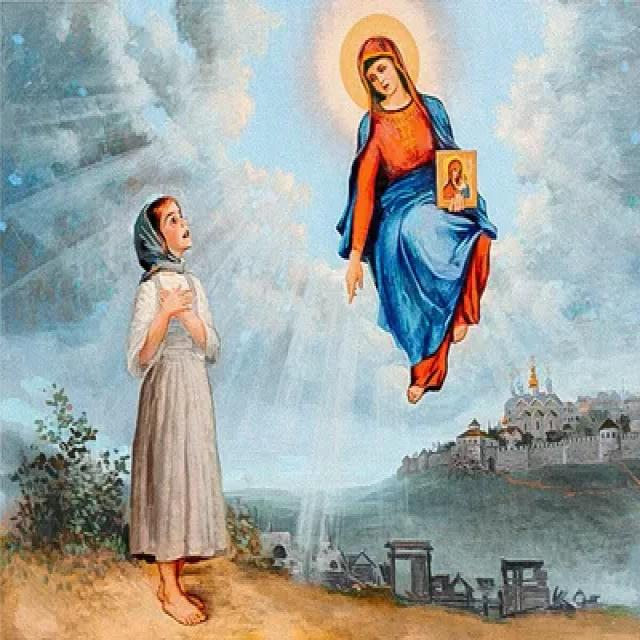mother of god: (320, 29, 505, 406)
